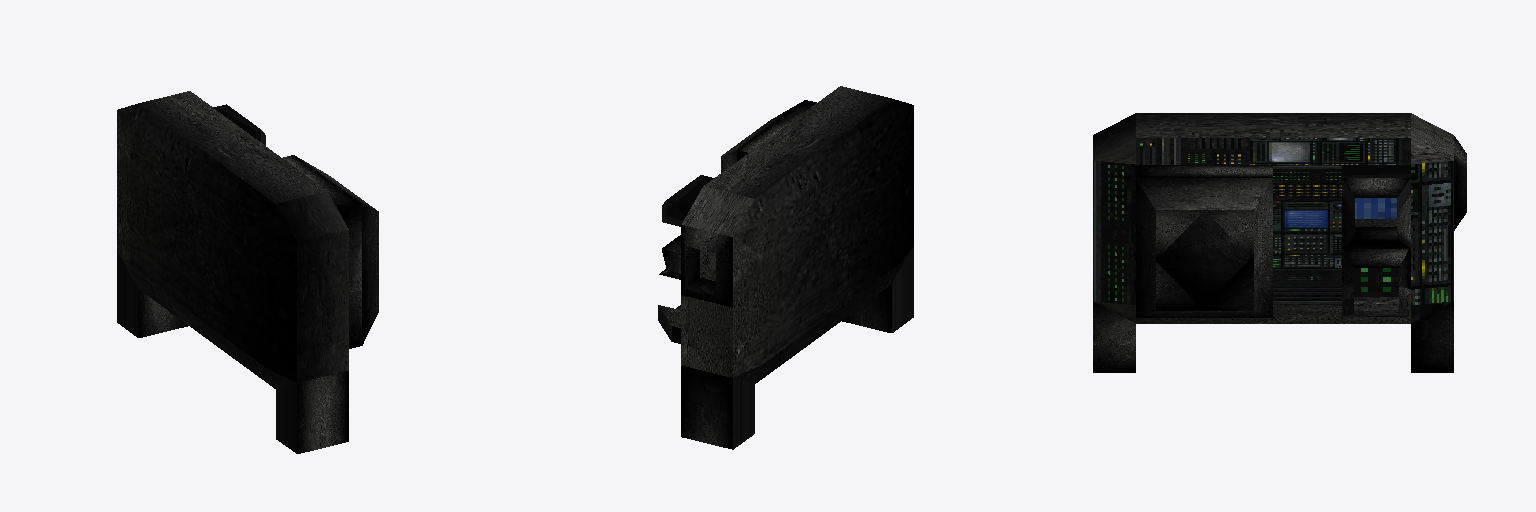
3 views of the same model, side by side, from view 1: azimuth 30°, elevation 25°; view 2: azimuth 150°, elevation 25°; view 3: azimuth 270°, elevation 25° (orthographic).
Parts seen in each view (by area): view 1: Cube; view 2: Cube; view 3: Cube.
Part boxes in pixels (x1,y1,x2,y2): Cube: (117,91,378,453); Cube: (658,86,913,449); Cube: (1093,113,1466,372).
Size of the model in its own units: 3.55 by 6.59 by 9.53.
2 materials, 2 textured.